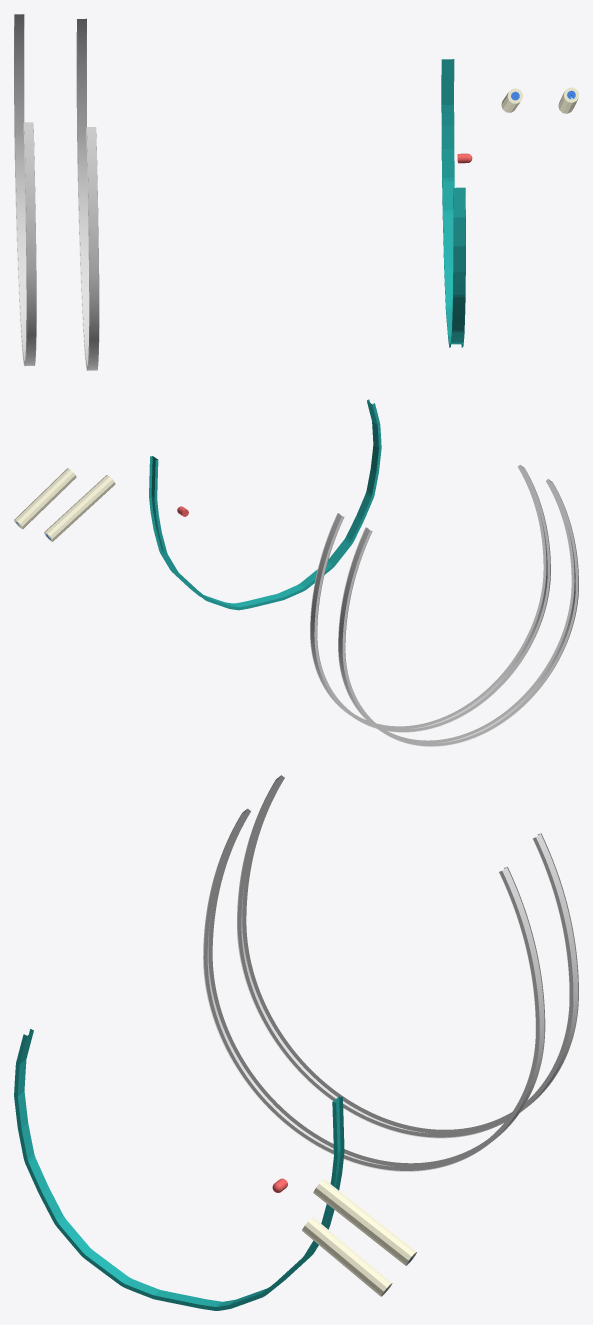
File: tile_36.glb
3 renders of one model, top to bottom at view 1: azimuth 30°, elevation 25°; view 2: azimuth 150°, elevation 25°; view 3: azimuth 270°, elevation 25°, orthographic. The views are drawn at different scales.
Bounding box in the file's own units: 11.21 × 5.07 × 7.84.
